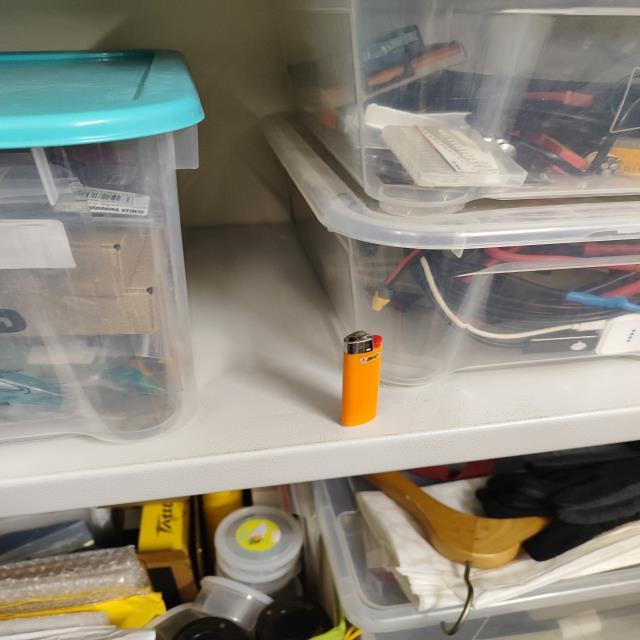lighter: (341, 331, 380, 426)
